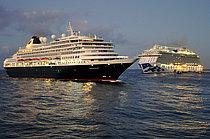Ship: (1, 19, 143, 87), (139, 42, 207, 78)
